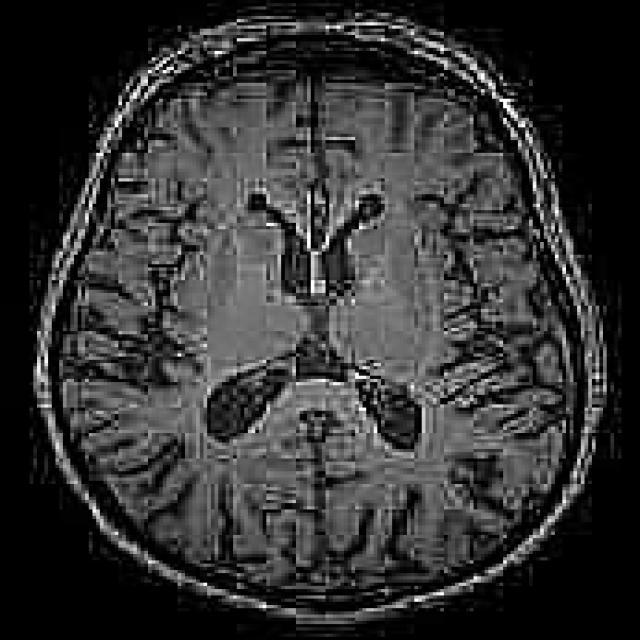notumor: (37, 3, 603, 624)
